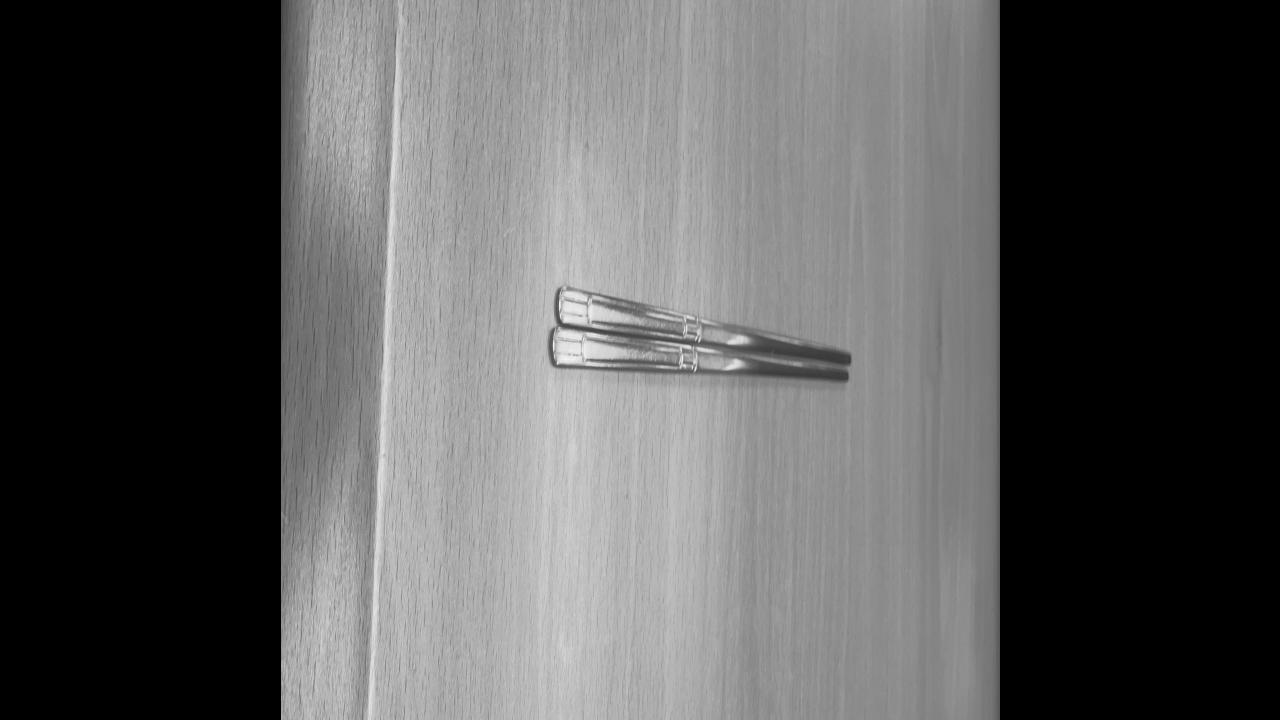chopstick: (549, 288, 849, 382)
